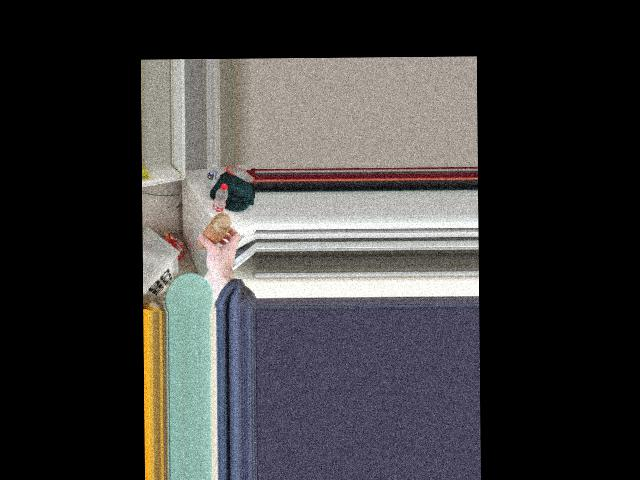sweet_potato: (196, 212, 228, 248)
